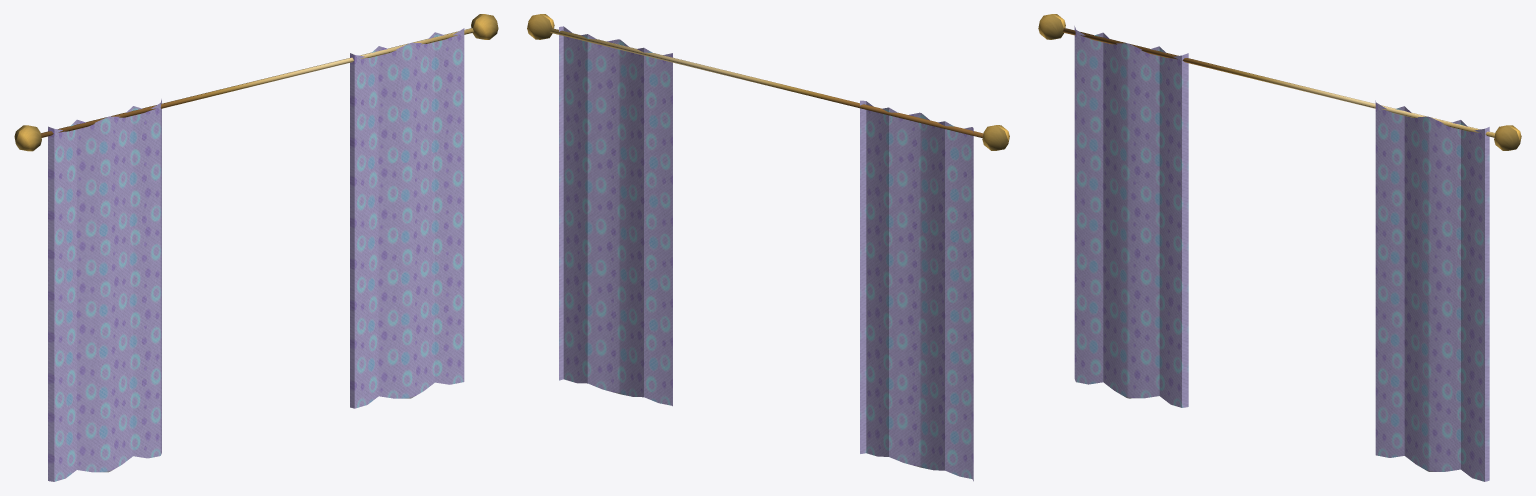
Rendered from Straight_Curtains_06.FBX.
3 renders of one model, left to right at view 1: azimuth 30°, elevation 25°; view 2: azimuth 150°, elevation 25°; view 3: azimuth 330°, elevation 25°, orthographic.
Parts seen in each view (by area): view 1: Straight_Curtain; view 2: Straight_Curtain; view 3: Straight_Curtain.
Part boxes in pixels (bbox=[...]): Straight_Curtain: bbox=[14, 14, 498, 481]; Straight_Curtain: bbox=[527, 14, 1009, 481]; Straight_Curtain: bbox=[1038, 14, 1521, 481].
Bounding box in the file's own units: 582 × 421 × 29.96.
